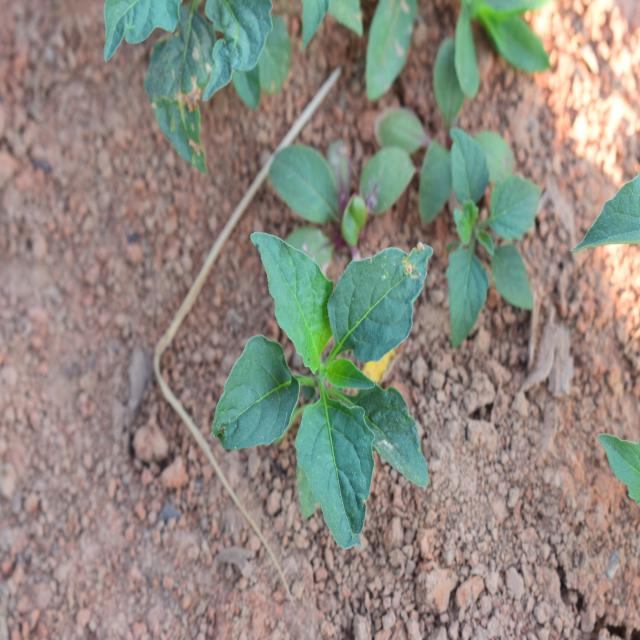Black_nightshade: (215, 227, 432, 535), (417, 132, 542, 330)
